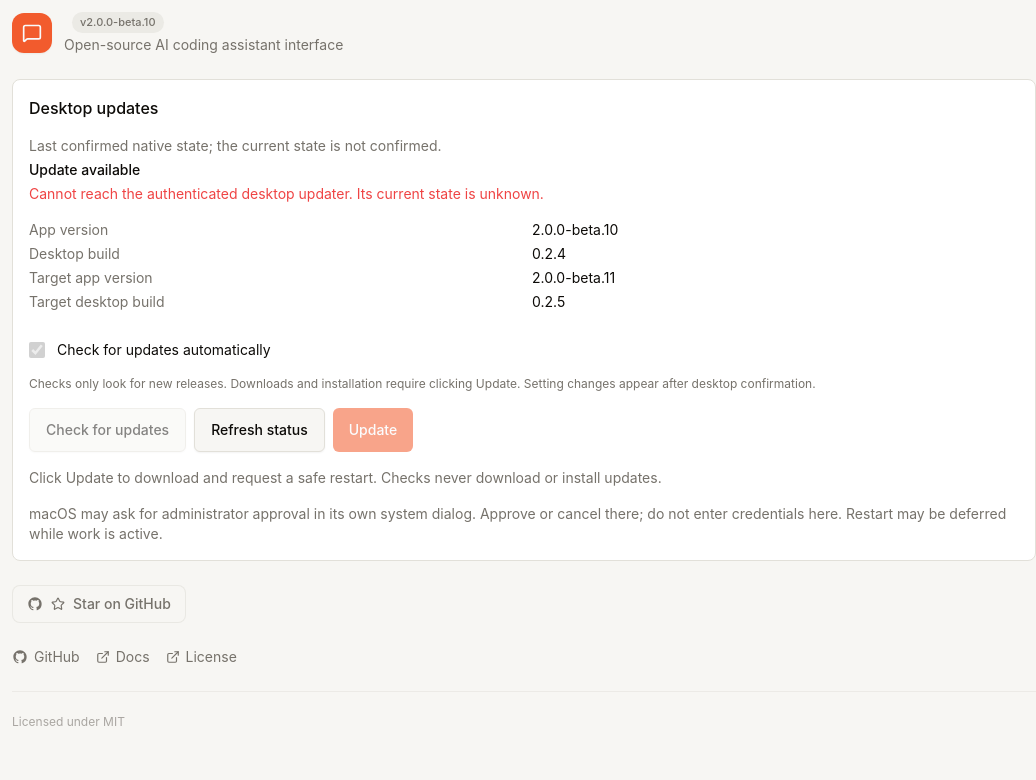
Test: About retains a disconnected target read-only and Refresh status reconnects without any mutation
Check: the text "Last confirmed native state; the current state is not confirmed." is shown, box 29,136 -> 442,154
Click the button "Refresh status". click: (259, 430)
box: 194,408 -> 325,452
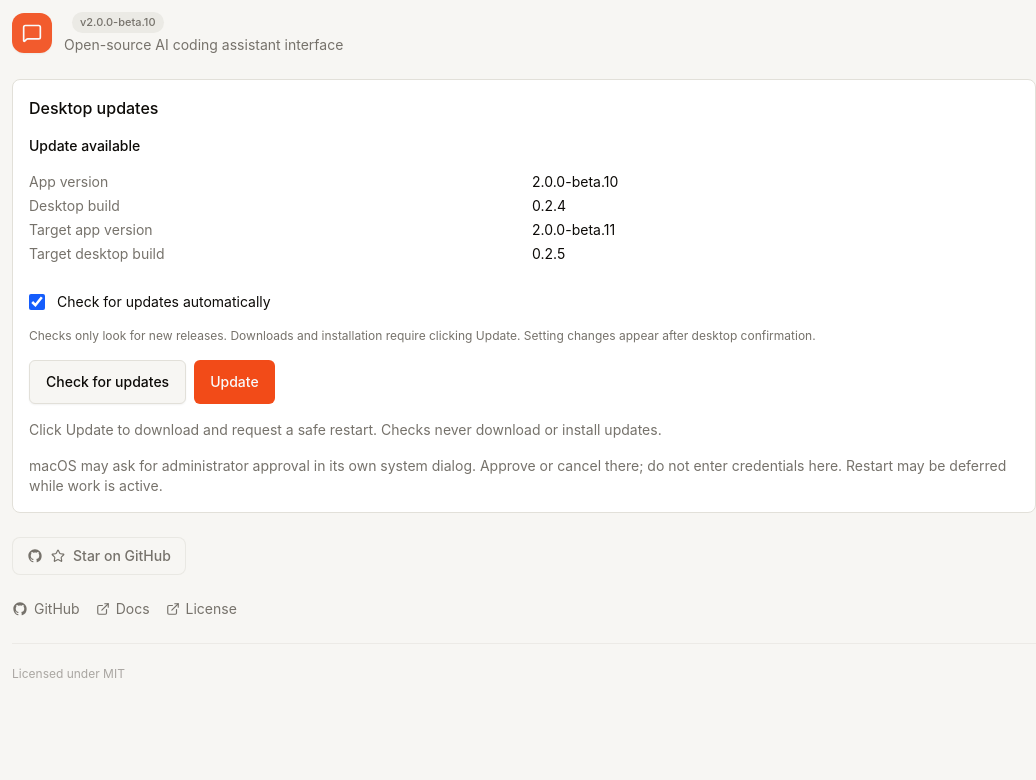
Check: the text "Last confirmed native state; the current state is not confirmed." is gone
